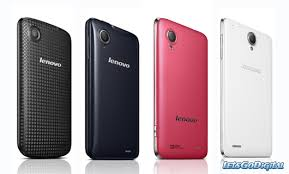lenovo: (83, 14, 143, 165), (151, 15, 210, 159), (219, 15, 278, 159), (15, 14, 71, 158)
